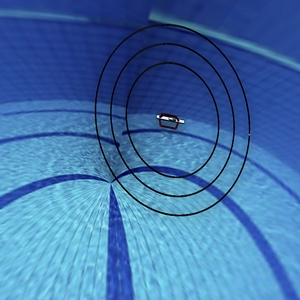circle: (85, 11, 265, 221)
submarine: (145, 102, 188, 140)
